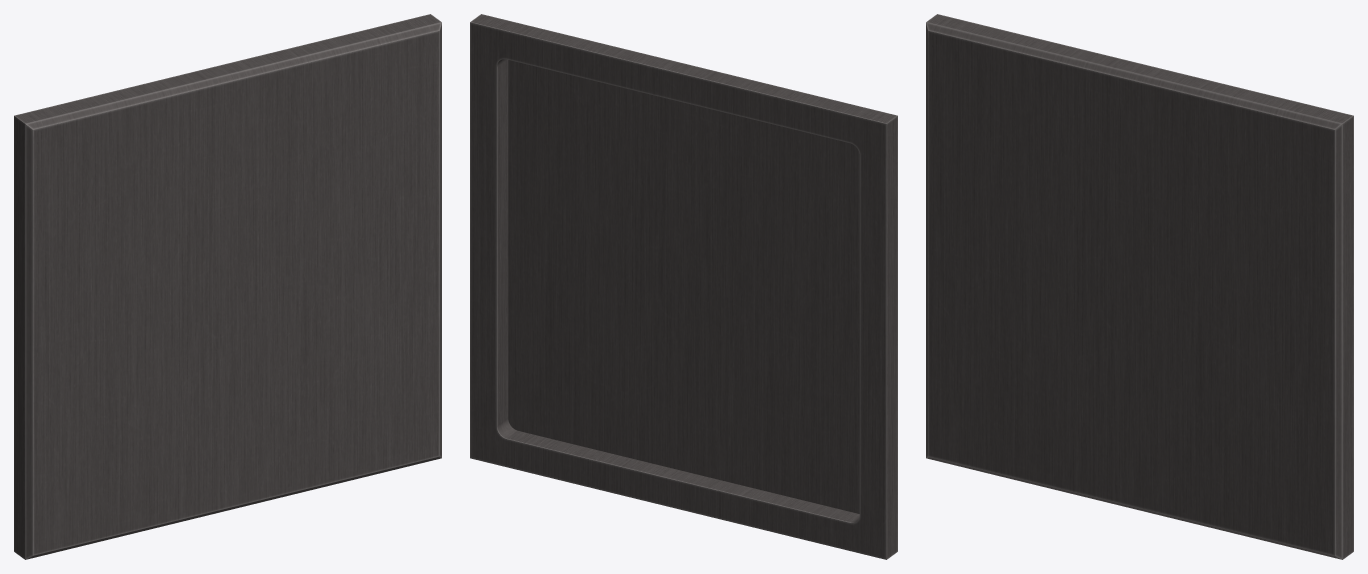
The model's file is CanonDeFusil.glb.
3 views of the same model, side by side, from view 1: azimuth 30°, elevation 25°; view 2: azimuth 150°, elevation 25°; view 3: azimuth 330°, elevation 25° (orthographic).
Parts seen in each view (by area): view 1: 3; view 2: 3; view 3: 3.
Part boxes in pixels (bbox=[...]): 3: bbox=[14, 14, 441, 559]; 3: bbox=[470, 14, 897, 559]; 3: bbox=[926, 14, 1353, 559].
Size of the model in its own units: 0.085 by 0.085 by 0.005.
1 material, 1 textured.
